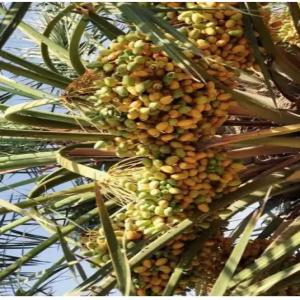palm tree: (0, 2, 299, 296)
